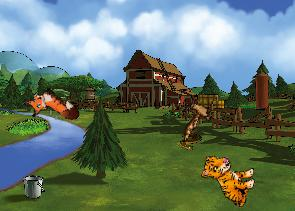eagle: (176, 91, 217, 142)
fox: (20, 79, 82, 138)
tiger: (196, 152, 259, 208)
